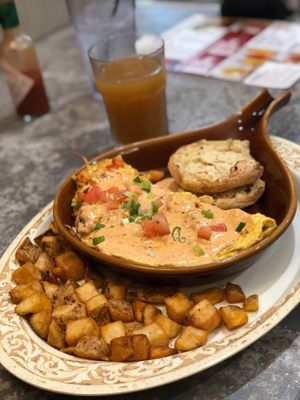pizza: (88, 33, 169, 146), (65, 0, 137, 101)
